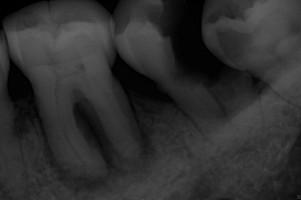Dental Caries: (42, 97, 156, 191)
